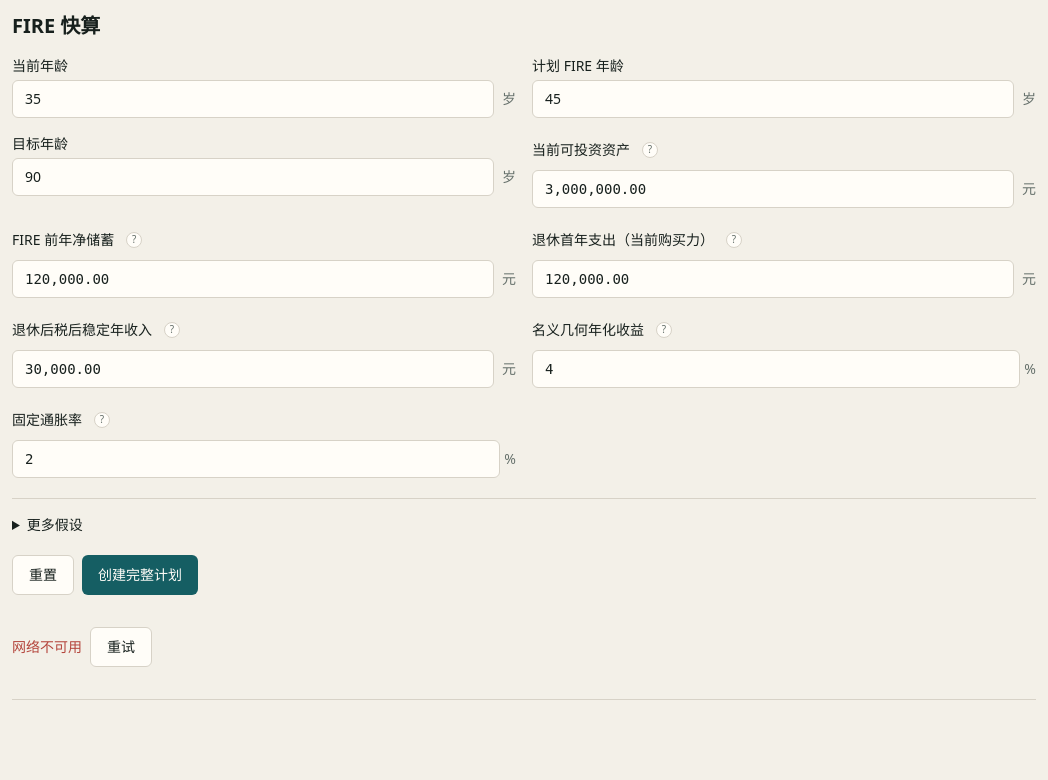
QuickFirePage › shows a retryable error instead of retaining an old conclusion
The image size is (1048, 780).
Check: the text "网络不可用" is shown, box [12,637,82,657]
Click the button "重试".
click(121, 647)  # box [90,627,152,667]
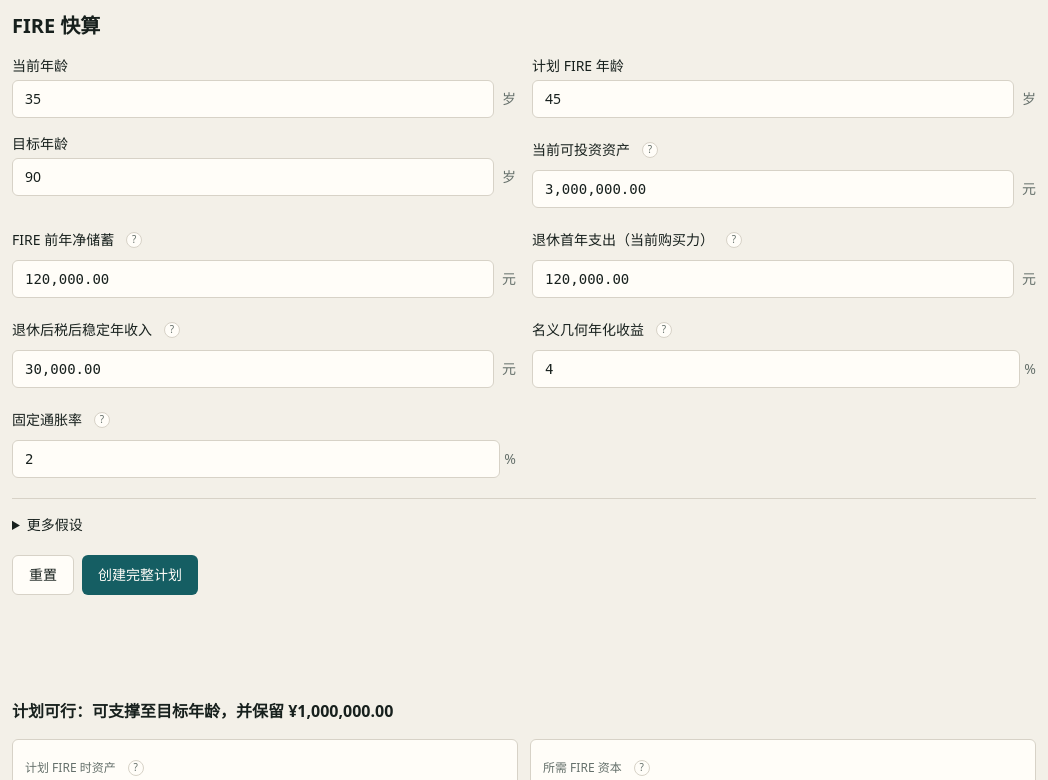
Check: the text "计划可行：可支撑至目标年龄，并保留 ¥1,000,000.00" is shown, box [12,700,393,722]
